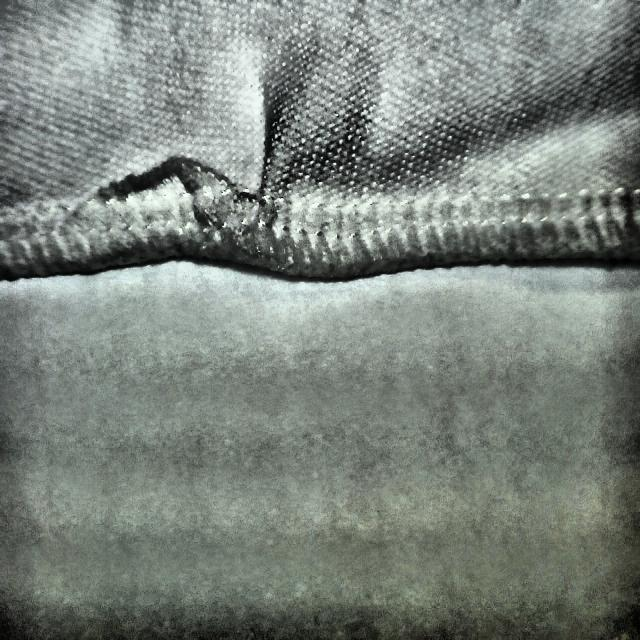gray stitch: (135, 87, 305, 262)
